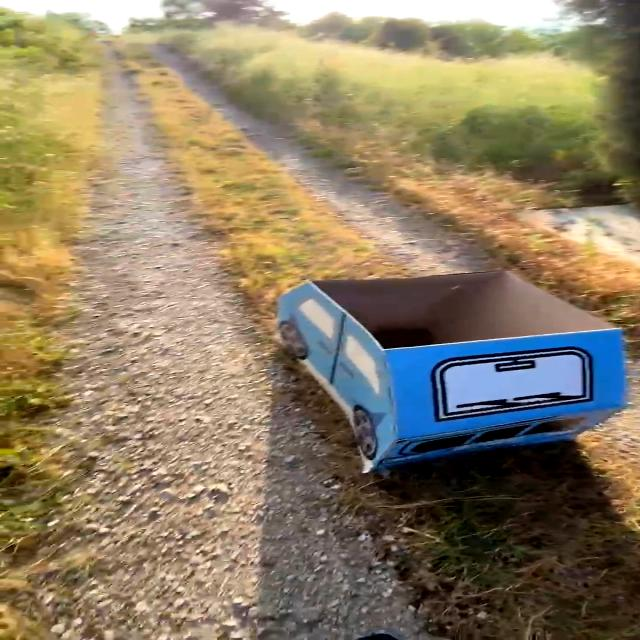blue_car: (211, 263, 640, 475)
